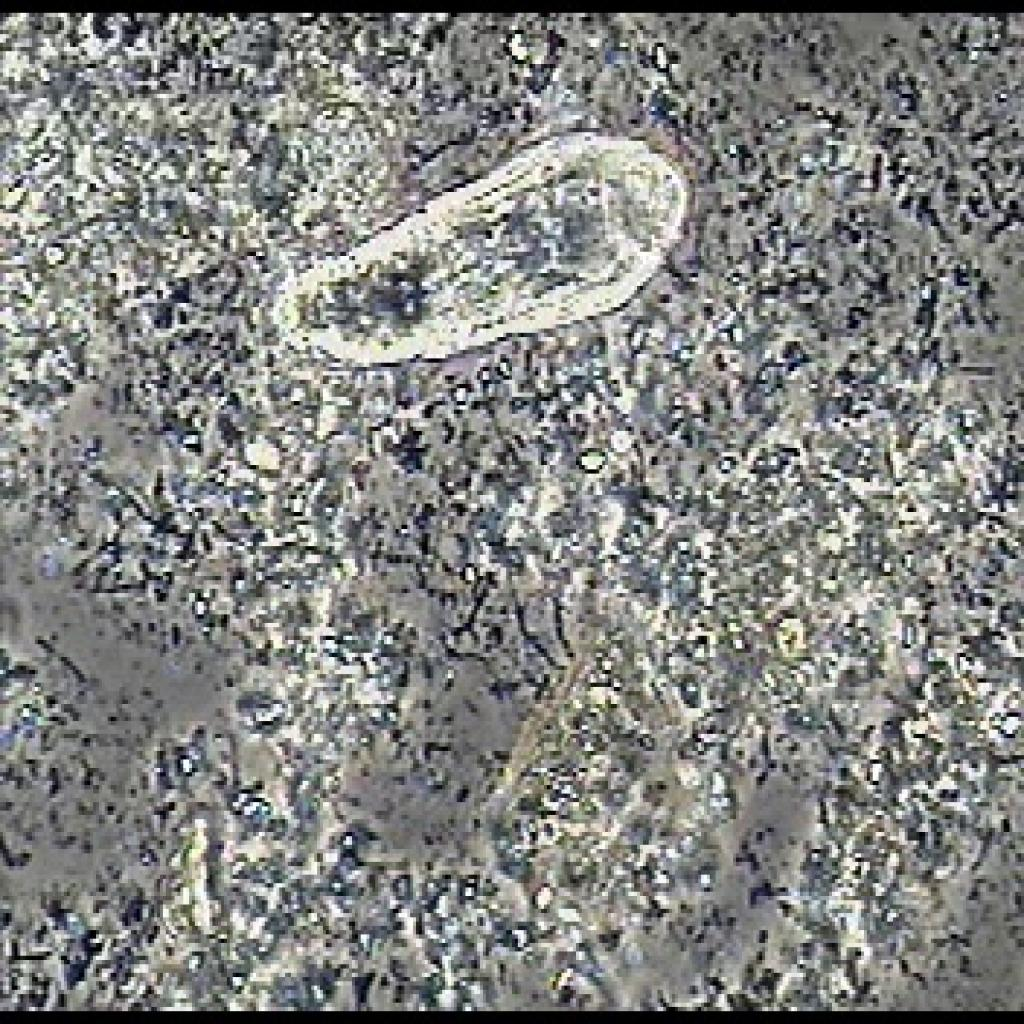Rotatoria: (250, 58, 692, 390)
